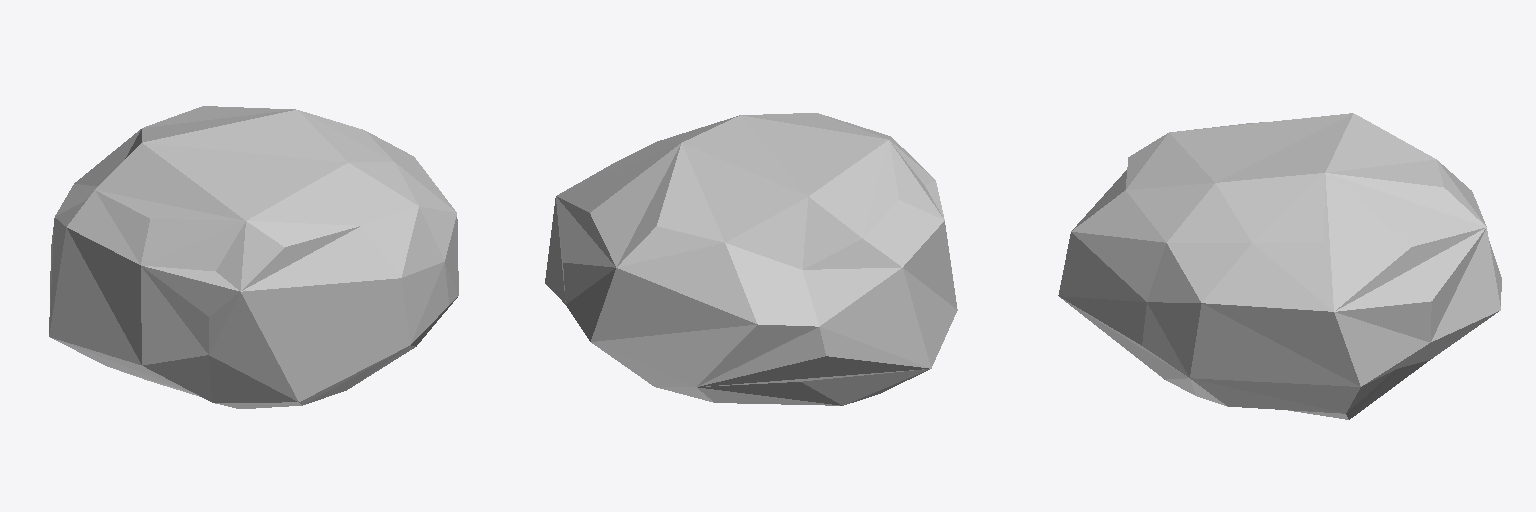
Rendered from rock_simplified_2.obj.
3 renders of one model, left to right at view 1: azimuth 30°, elevation 25°; view 2: azimuth 150°, elevation 25°; view 3: azimuth 270°, elevation 25°, orthographic.
Parts seen in each view (by area): view 1: Icosphere; view 2: Icosphere; view 3: Icosphere.
Boxes of the visible parts, x1=… form: Icosphere: x1=49, y1=106, x2=458, y2=408; Icosphere: x1=545, y1=113, x2=957, y2=405; Icosphere: x1=1058, y1=113, x2=1501, y2=419.
Size of the model in its own units: 1.97 by 1.16 by 2.04.